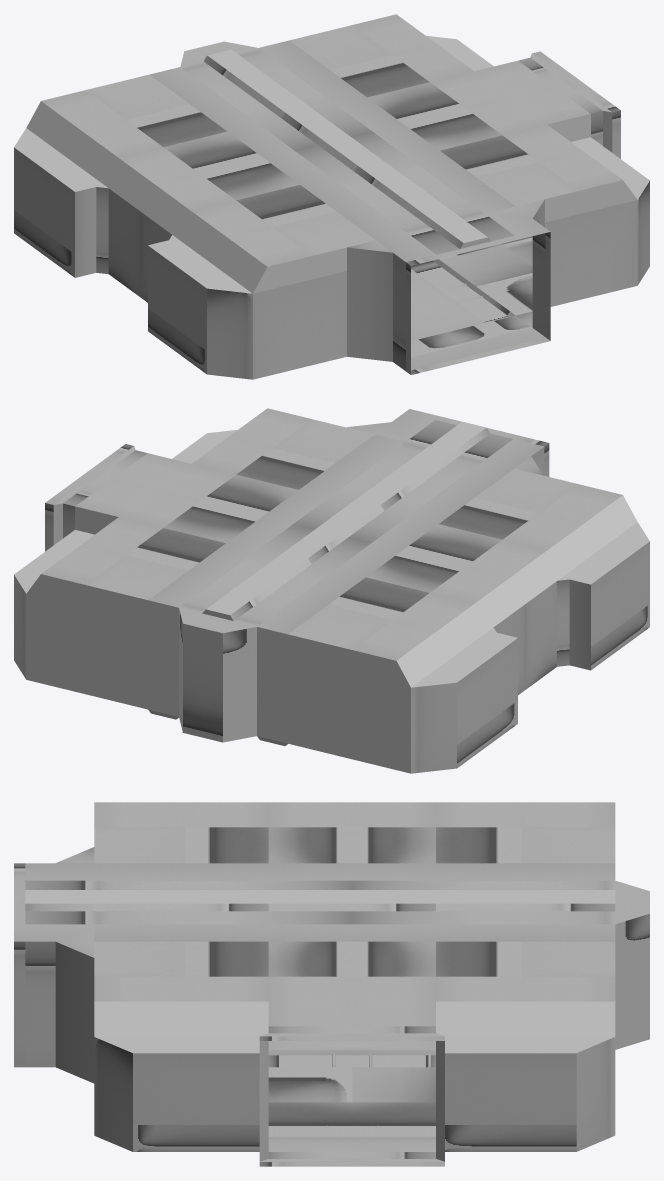
The model's file is corridorE.FBX.
3 views of the same model, one above another, from view 1: azimuth 30°, elevation 25°; view 2: azimuth 150°, elevation 25°; view 3: azimuth 270°, elevation 25° (orthographic). The views are drawn at different scales.
Visible parts, largest first — view 1: corridorE; view 2: corridorE; view 3: corridorE.
Part boxes in pixels (x1,y1,x2,y2): corridorE: (14,14,649,379); corridorE: (14,408,649,773); corridorE: (14,802,649,1166).
Size of the model in its own units: 48.34 by 49.37 by 11.58.
